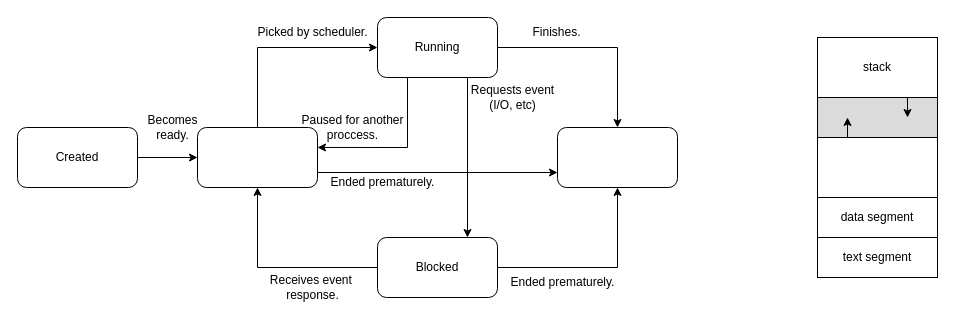
This 955x325 diagram has some shape labels left out. The centre of each missing label's shape, as x and y in pixels:
heap: the point at 877,167
Ready: the point at 257,157
Terminated: the point at 617,157
